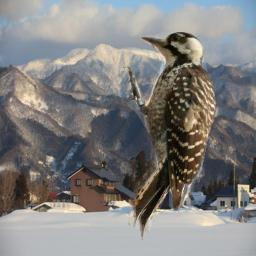Woodpecker: (121, 26, 217, 241)
